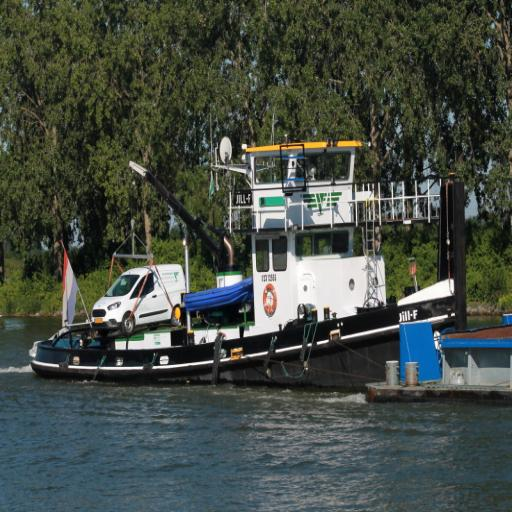tugboat: (27, 134, 465, 401)
